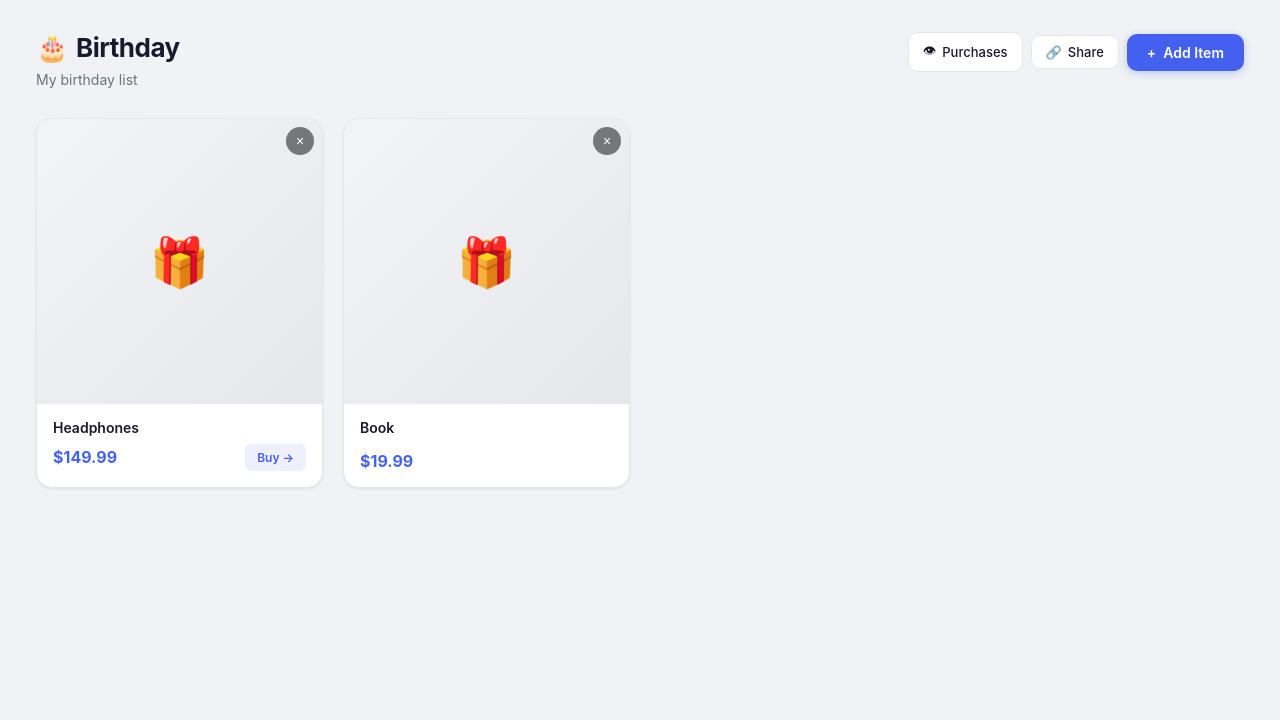
WishlistView – Add Item modal › closes Add Item modal when × is clicked
Click the button "+ Add Item".
click(1185, 52)  # box [1127, 34, 1244, 70]
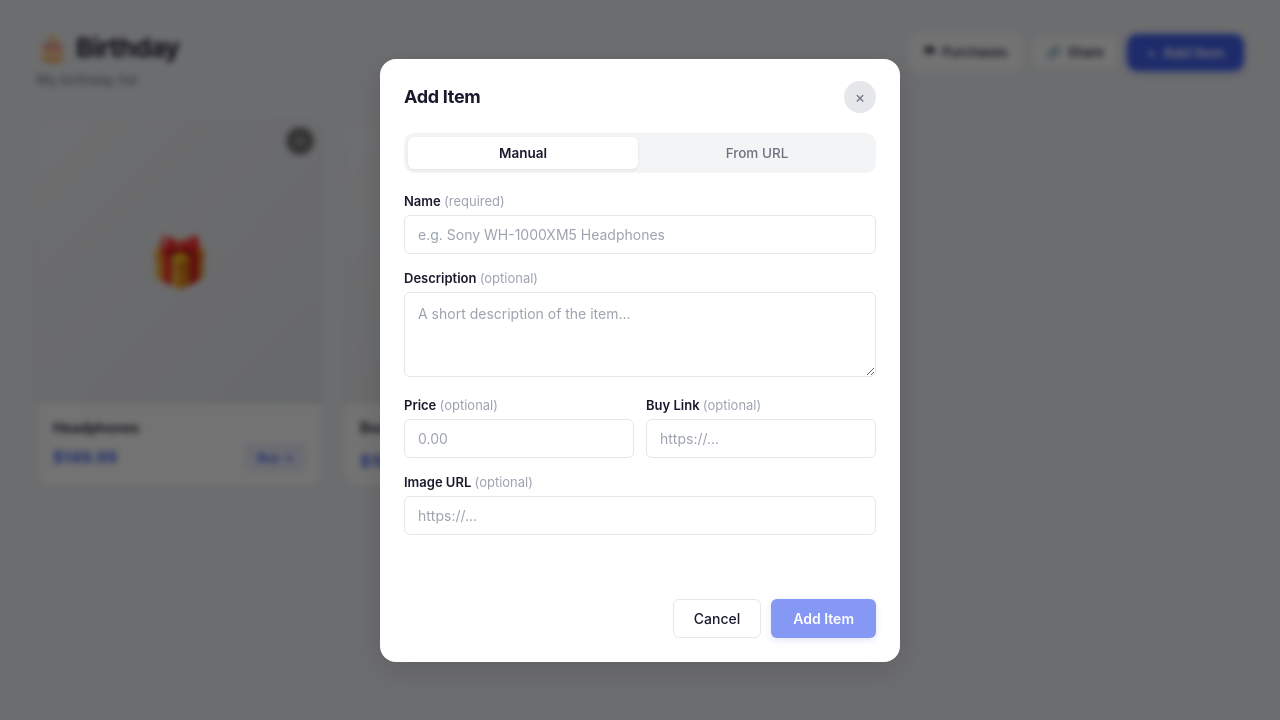
Click the button named "close".
click(860, 96)  # box [844, 80, 876, 112]
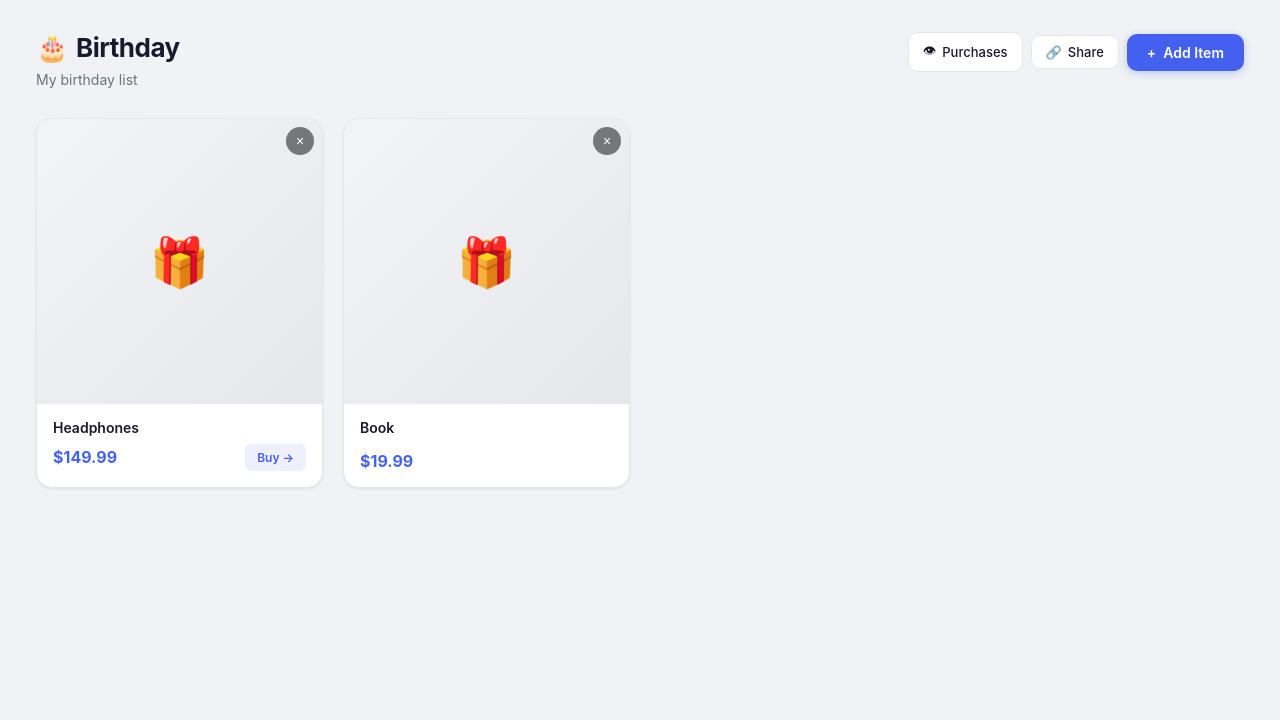
Expected: the dialog is gone
